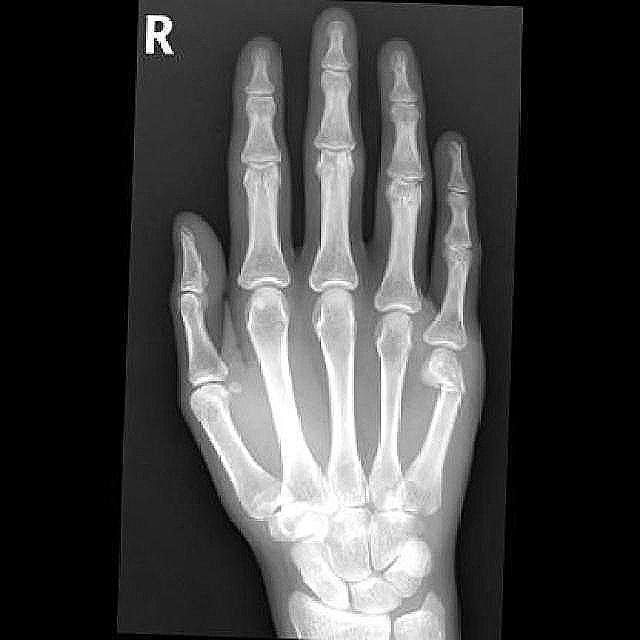bone: (412, 348, 472, 424)
